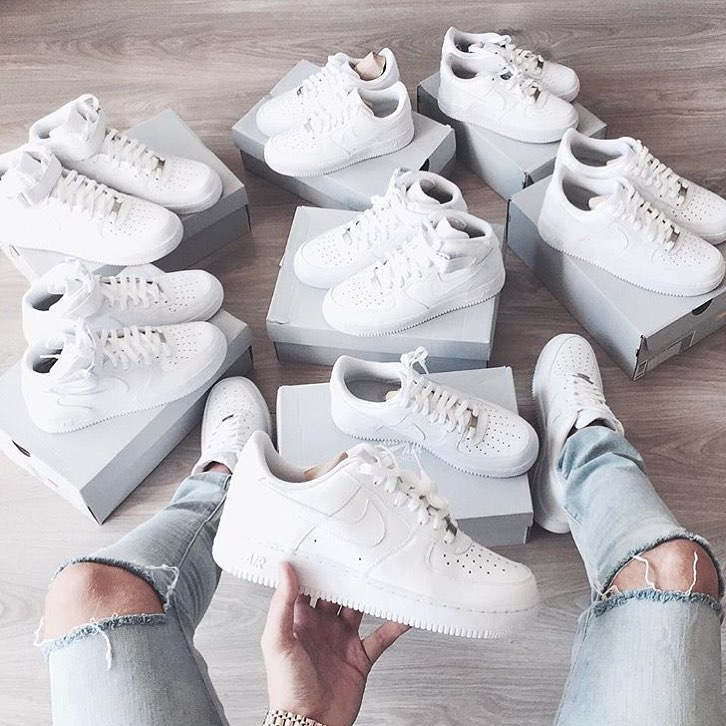sneaker: (516, 319, 641, 542), (177, 365, 284, 509)
